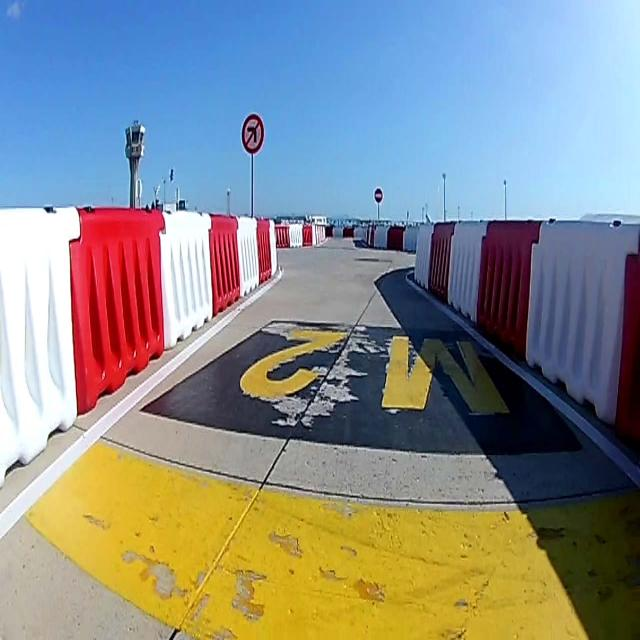soladonulmez: (242, 114, 264, 154)
